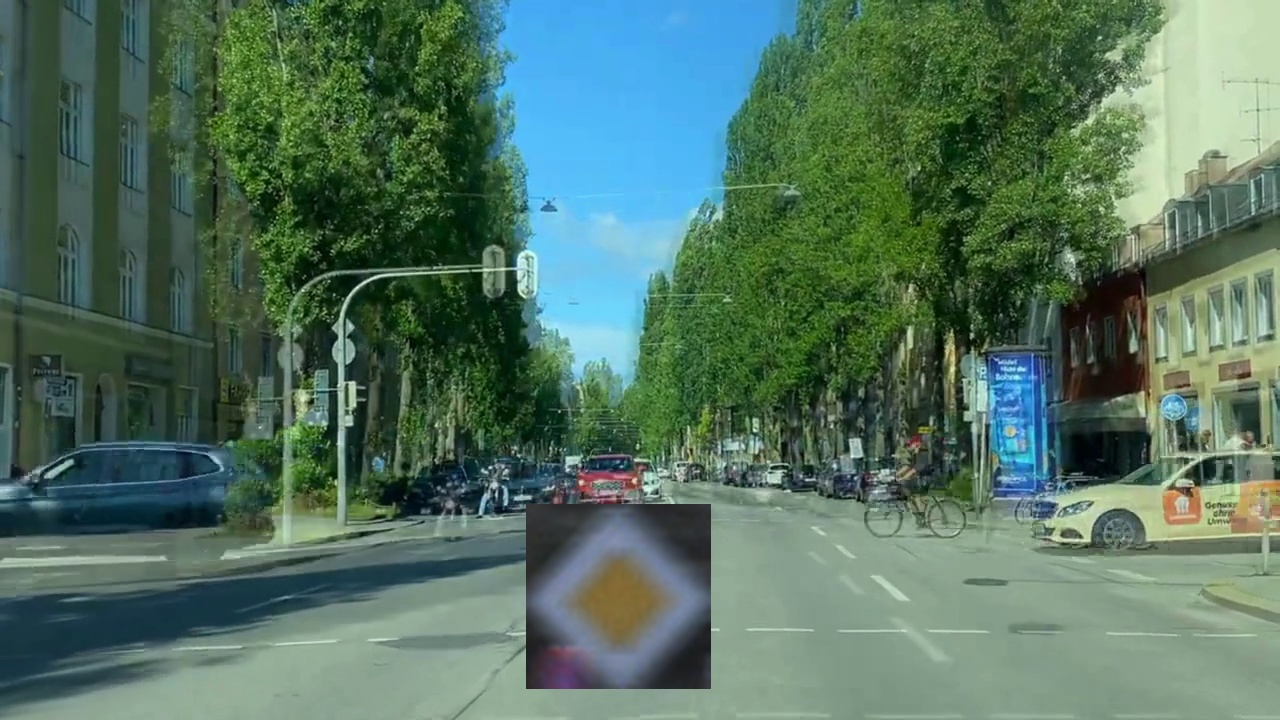Priority road: (526, 504, 711, 689)
